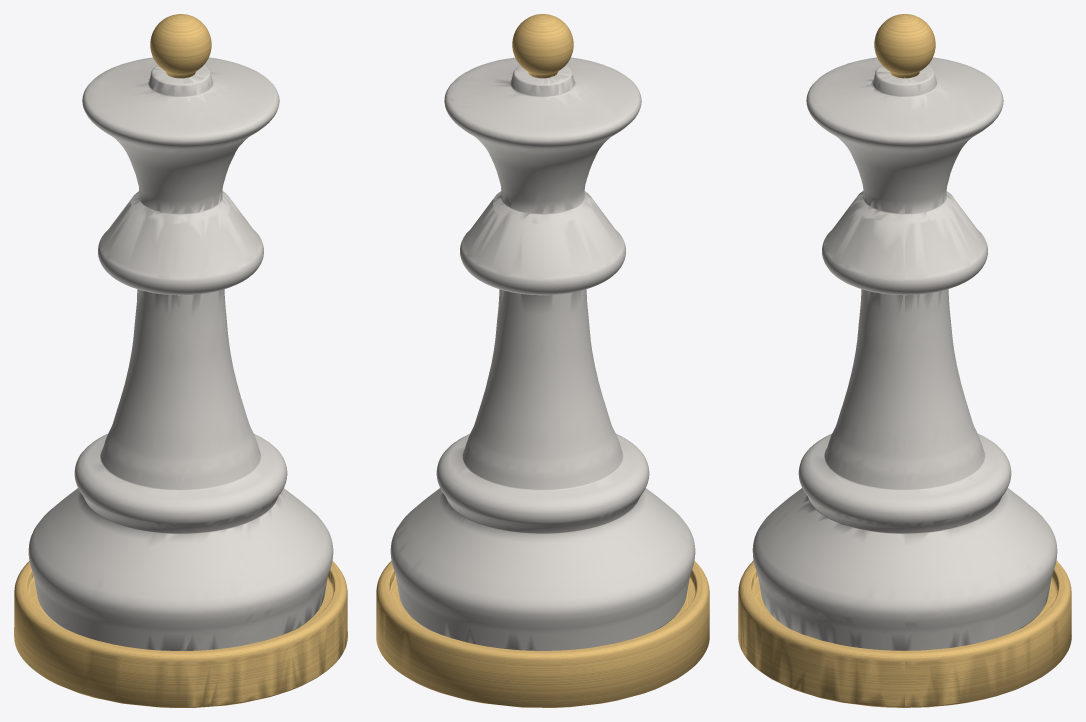
The model's file is queen-white-hd.glb.
The picture shows the model from 3 angles, left to right: view 1: azimuth 30°, elevation 25°; view 2: azimuth 150°, elevation 25°; view 3: azimuth 270°, elevation 25°; orthographic projection.
Parts seen in each view (by area): view 1: Aurum Ivoire – Queen; view 2: Aurum Ivoire – Queen; view 3: Aurum Ivoire – Queen.
Part boxes in pixels (x1,y1,x2,y2): Aurum Ivoire – Queen: (14,14,347,707); Aurum Ivoire – Queen: (376,14,709,707); Aurum Ivoire – Queen: (738,14,1071,707).
Size of the model in its own units: 0.7397 by 1.52 by 0.7397.
2 materials, 1 textured.
